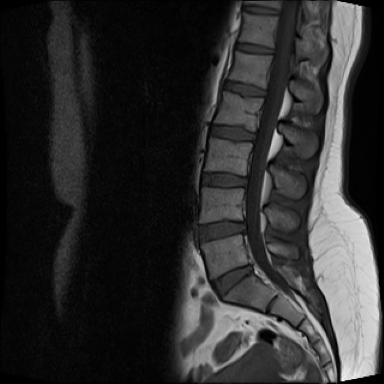Lumbar Disc Bulge (LDB): (206, 256, 263, 302), (191, 215, 254, 249)
Normal IVD: (203, 119, 261, 147), (195, 165, 252, 192), (220, 74, 271, 100), (237, 1, 285, 18), (231, 39, 278, 56)
Spinal Stenosis (SS): (246, 255, 259, 280), (241, 215, 251, 237)
